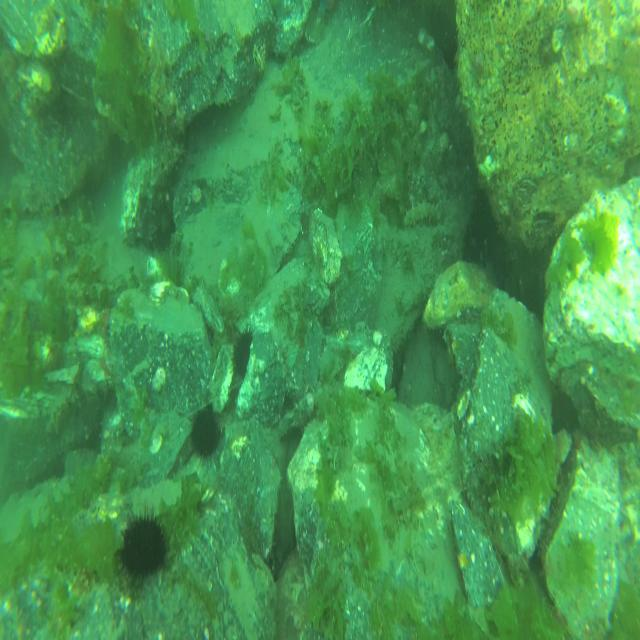echinus: (116, 505, 172, 588), (188, 404, 226, 463), (231, 324, 256, 379)
holothurian: (401, 198, 443, 229)
